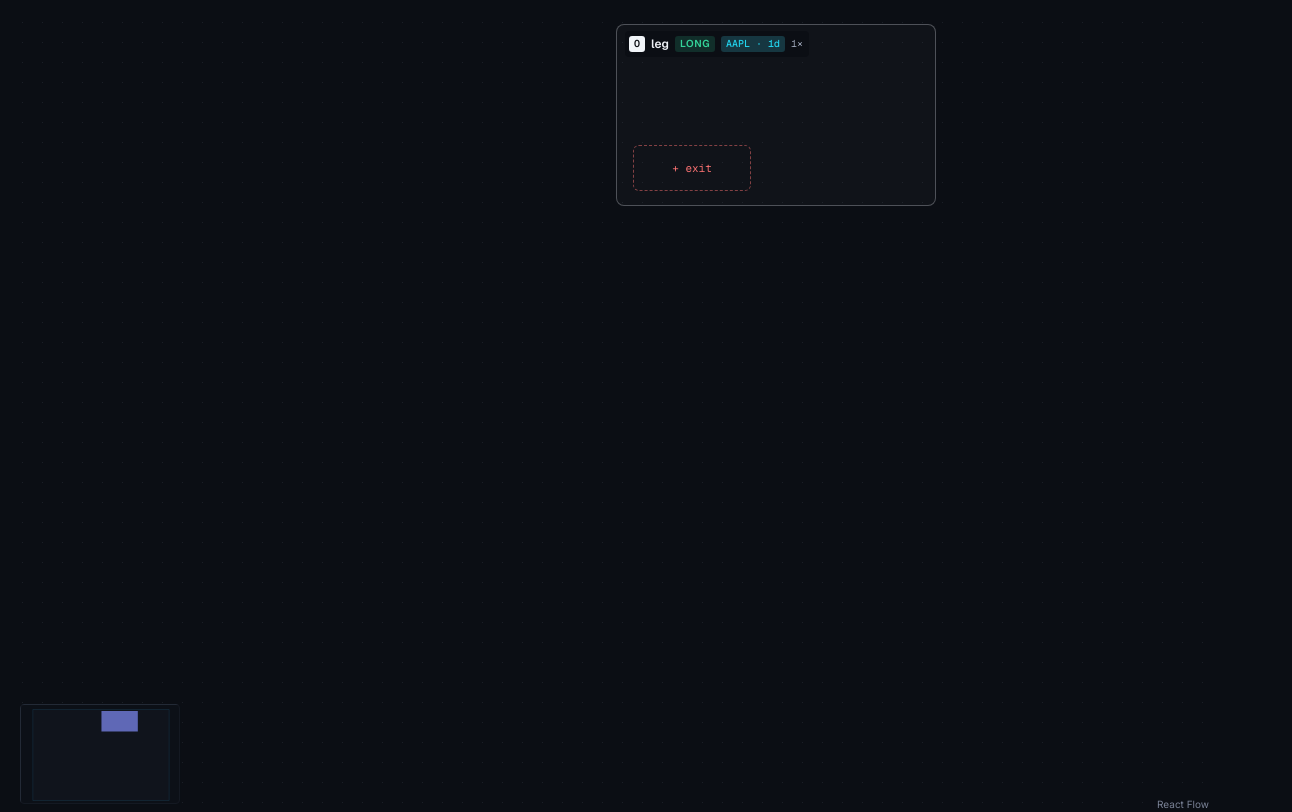
Scenario: FE-06: header lists open outside the frame › the direction list is portalled out of the frame node
Click the button with test id "nb-group-direction-leg" at (695, 44), box [675,36,715,52]
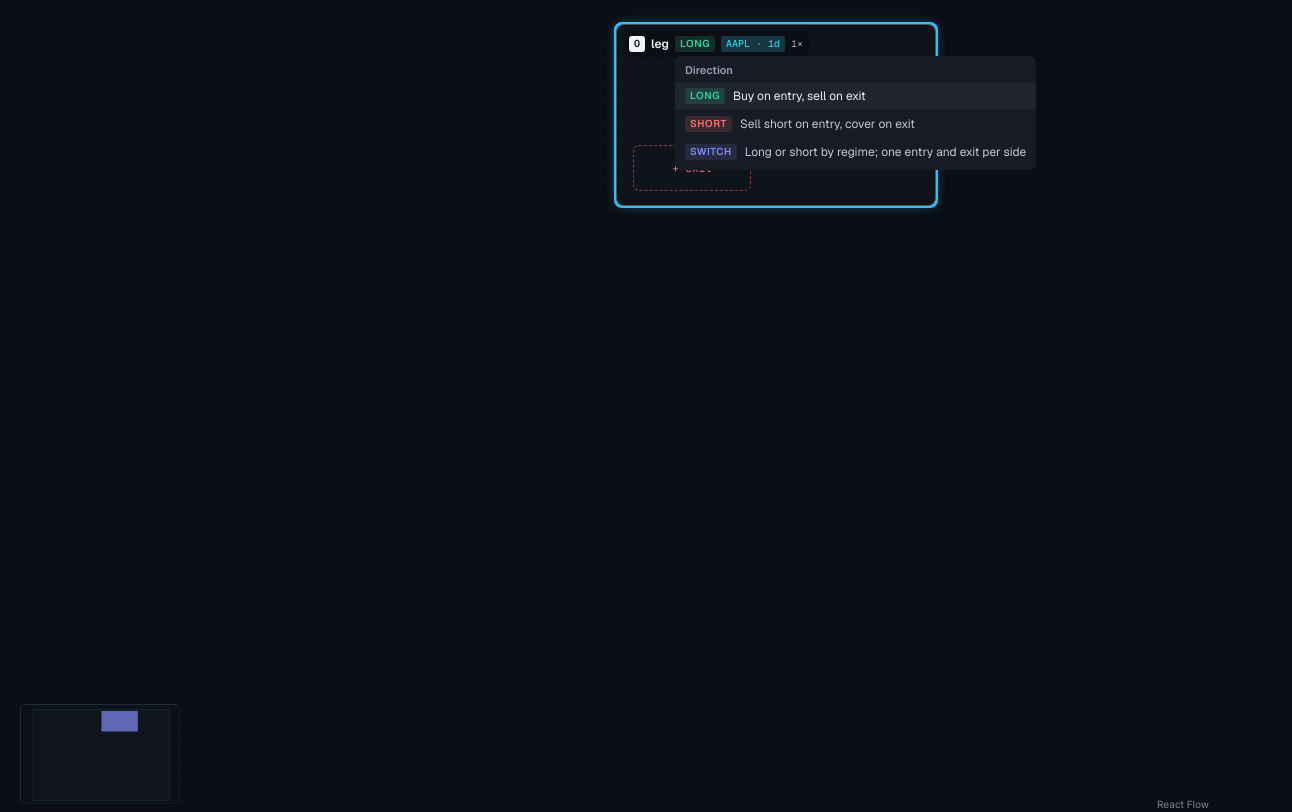
Expected: the element with class "react-flow__node" is shown, [616,24,936,206]
Expected: the element "Direction" is shown, [675,56,1036,170]
